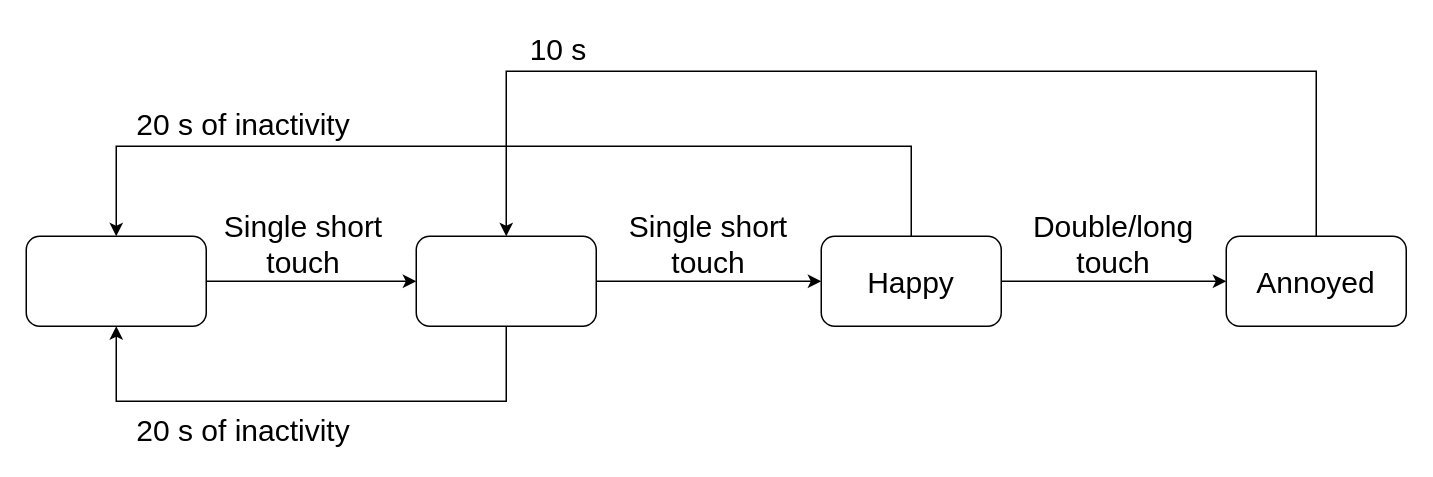
This 1433x477 diagram has some shape labels left out. The shapes that lost their labels are listed below. From the top down, each one's box as (x1, y1, x2, y2) in pixels, then its label:
(25, 235, 206, 326): Sad
(415, 235, 596, 326): Interested
